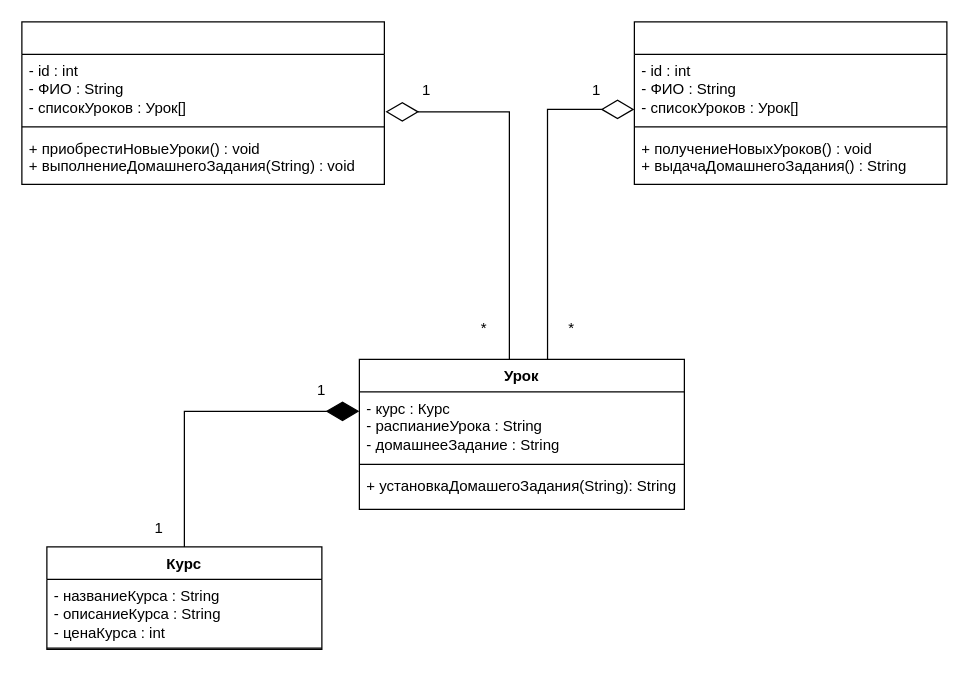
The diagram is 969 pixels wide and 673 high, and some of its shapes have lost their labels. Each missing label, with the box of its shape:
Преподаватель: (633, 21, 947, 184)
Ученик: (21, 21, 384, 184)
